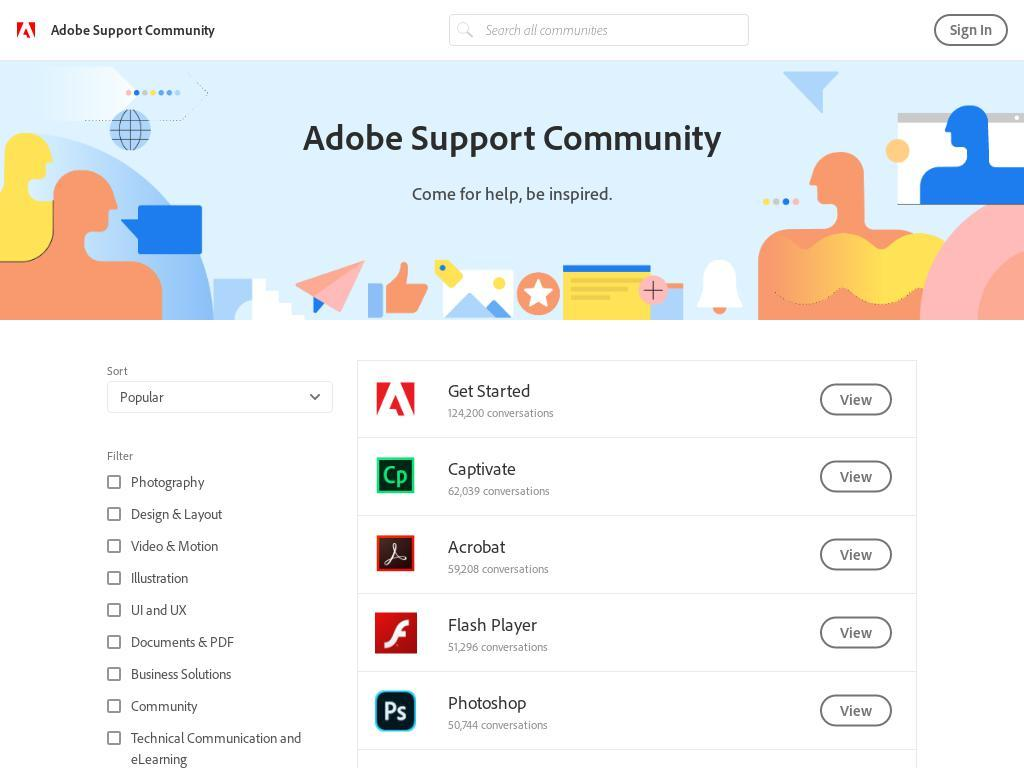button: (107, 381, 334, 413), (16, 20, 264, 40), (819, 460, 892, 493), (819, 538, 892, 571), (819, 616, 892, 649), (819, 694, 892, 727), (934, 14, 1008, 46), (819, 383, 892, 415)
field: (449, 14, 749, 46), (99, 726, 326, 768), (99, 630, 243, 662), (99, 662, 240, 694), (99, 502, 231, 534), (99, 534, 227, 566), (99, 470, 213, 502), (99, 694, 206, 726), (99, 566, 197, 598), (99, 598, 195, 630), (449, 14, 481, 45)
image: (375, 378, 417, 420), (375, 612, 418, 653), (375, 456, 417, 497), (375, 534, 417, 575), (375, 690, 417, 731)
link: (448, 612, 538, 635), (448, 378, 531, 402), (448, 690, 527, 713), (448, 456, 517, 479), (448, 534, 506, 557)
text: (0, 60, 1023, 320), (0, 113, 1024, 160), (0, 179, 1024, 207), (131, 728, 318, 768), (448, 403, 714, 422), (448, 481, 714, 499), (448, 559, 714, 577), (448, 637, 714, 655), (448, 715, 714, 733), (51, 21, 215, 39), (131, 632, 235, 653), (131, 664, 232, 685), (131, 504, 223, 525), (131, 536, 219, 557), (131, 472, 205, 493), (131, 696, 198, 717), (131, 568, 189, 589), (131, 600, 187, 621), (950, 20, 992, 39), (120, 388, 164, 406), (839, 466, 872, 486), (839, 544, 872, 564), (839, 622, 872, 642), (839, 700, 872, 720), (839, 389, 872, 408), (1022, 60, 1024, 320), (107, 448, 134, 463), (107, 363, 129, 378)
